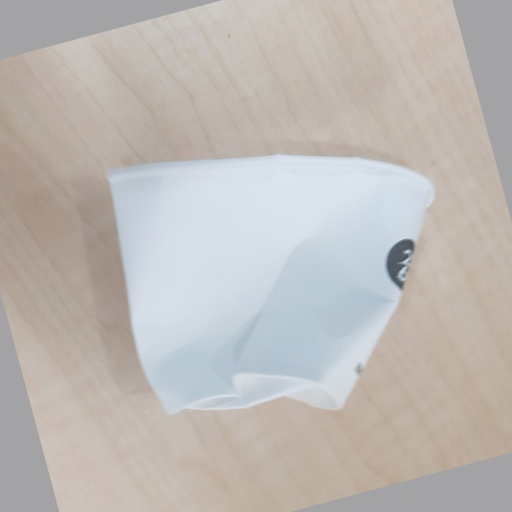Paper_1: (102, 151, 435, 416)
